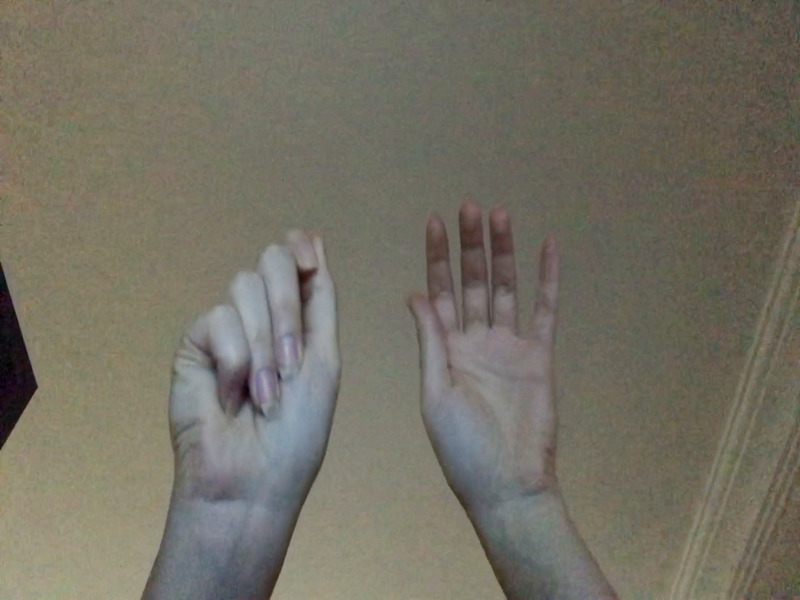hand: (163, 228, 344, 500), (405, 198, 563, 490)
